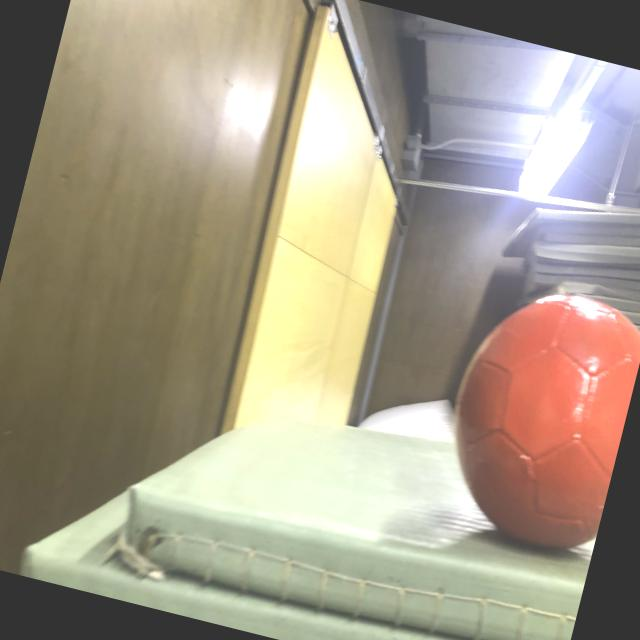red_ball: (425, 271, 640, 564)
